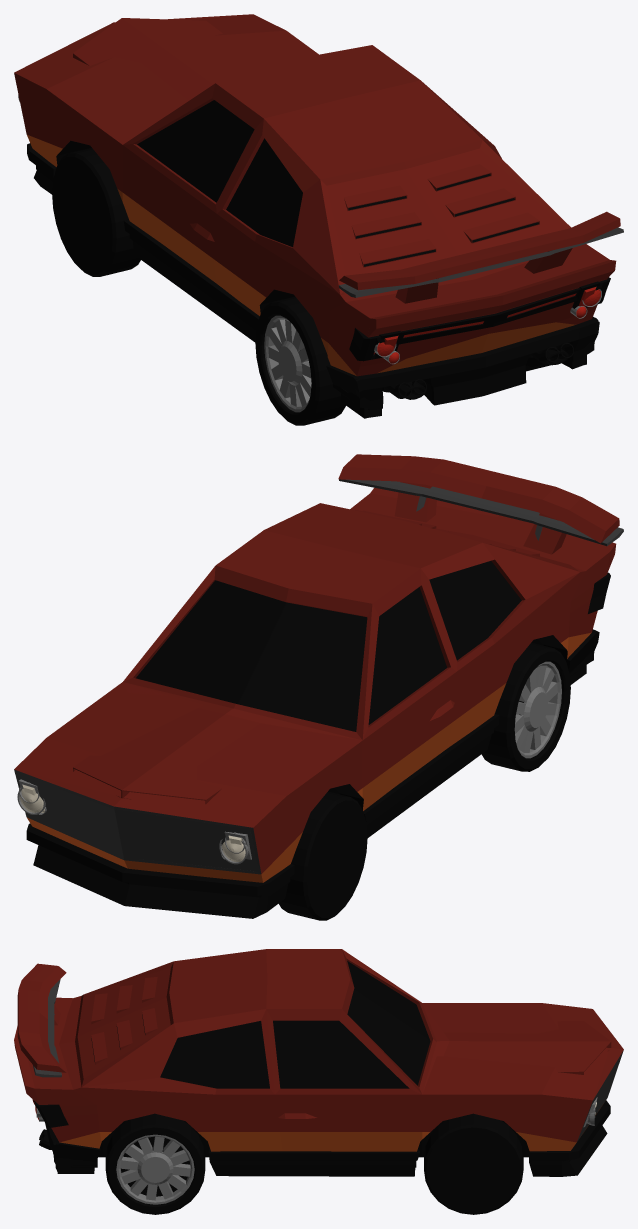
File: car_final.glb
The picture shows the model from 3 angles, top to bottom: view 1: azimuth 30°, elevation 25°; view 2: azimuth 150°, elevation 25°; view 3: azimuth 270°, elevation 25°; orthographic projection. The views are drawn at different scales.
Visible parts, largest first — view 1: Car_core_upper, BackWindow, Car_core_windows, Hood.000, Wheels, Hood.001, Car_core_lower, Spoiler.002, BackBumper.000, Spoiler.000, Wheels.000, BackBumper.001 (+11 smaller); view 2: Car_core_upper, Car_core_windows, Hood.000, Hood.001, Spoiler.002, FrontBumper.001, Grille.000, Wheels, Hood.002, Car_core_lower, Wheels.000, Skirts.001 (+7 smaller); view 3: Car_core_upper, Car_core_windows, Hood.000, Wheels, BackWindow, Hood.001, Wheels.000, Car_core_lower, Skirts.001, Rims, Spoiler.002, FrontBumper.001 (+9 smaller).
Part boxes in pixels (<box>): Car_core_upper: <box>14,45,609,376</box>; BackWindow: <box>326,148,566,275</box>; Car_core_windows: <box>137,100,538,266</box>; Hood.000: <box>14,14,318,144</box>; Wheels: <box>52,148,551,425</box>; Hood.001: <box>73,14,249,100</box>; Car_core_lower: <box>27,134,575,375</box>; Spoiler.002: <box>339,211,620,303</box>; BackBumper.000: <box>333,319,599,410</box>; Spoiler.000: <box>368,260,616,336</box>; Wheels.000: <box>54,159,111,269</box>; BackBumper.001: <box>326,317,598,418</box>; Car_core_upper: <box>123,493,609,873</box>; Car_core_windows: <box>136,561,521,731</box>; Hood.000: <box>14,690,362,827</box>; Hood.001: <box>15,683,359,806</box>; Spoiler.002: <box>338,454,619,554</box>; FrontBumper.001: <box>26,823,294,918</box>; Grille.000: <box>14,769,260,873</box>; Wheels: <box>278,642,570,920</box>; Hood.002: <box>27,682,361,825</box>; Car_core_lower: <box>27,632,591,882</box>; Wheels.000: <box>309,802,366,912</box>; Skirts.001: <box>363,714,499,837</box>; Car_core_upper: <box>27,949,592,1142</box>; Car_core_windows: <box>91,961,430,1088</box>; Hood.000: <box>422,1003,621,1100</box>; Wheels: <box>105,1113,523,1214</box>; BackWindow: <box>77,968,170,1078</box>; Hood.001: <box>423,1004,623,1099</box>; Wheels.000: <box>427,1128,517,1209</box>; Car_core_lower: <box>59,1103,603,1151</box>; Skirts.001: <box>208,1148,419,1176</box>; Rims: <box>116,1134,194,1204</box>; Spoiler.002: <box>17,963,66,1072</box>; FrontBumper.001: <box>529,1100,610,1176</box>.
Size of the model in its own units: 3.31 by 2.83 by 8.33.
